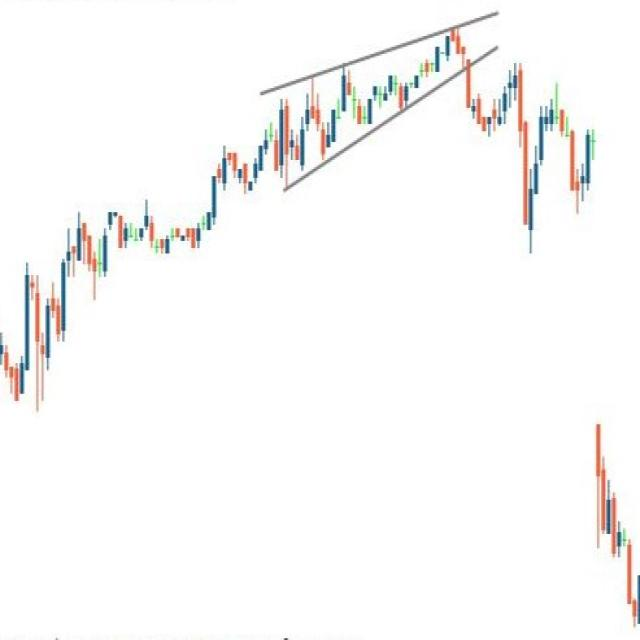Rising-Wedge: (248, 14, 501, 218)
